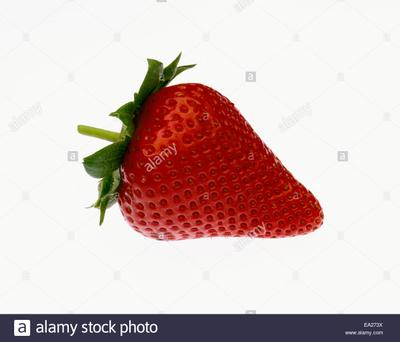strawberry: (0, 0, 400, 342)
